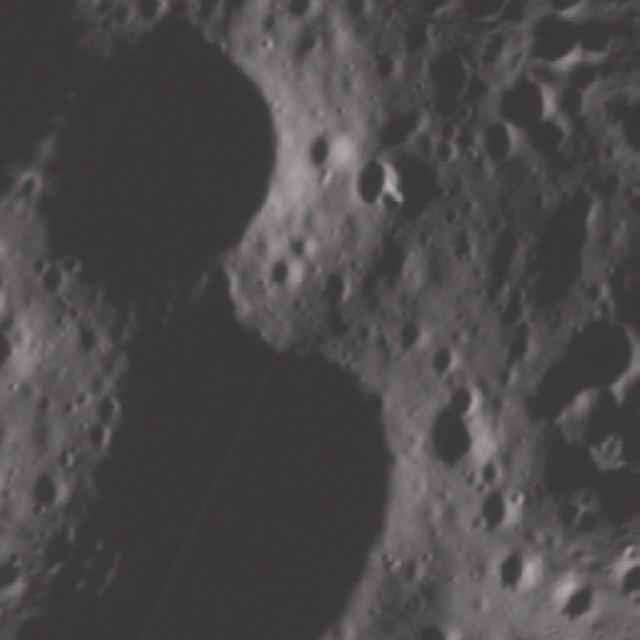crater: (0, 0, 449, 408), (32, 289, 446, 640), (397, 24, 500, 128), (414, 401, 508, 493), (466, 472, 543, 551), (0, 307, 52, 418), (337, 146, 412, 222), (292, 115, 368, 190), (485, 542, 557, 616), (374, 303, 438, 368), (468, 111, 530, 178), (521, 104, 582, 170), (254, 245, 314, 309), (20, 462, 80, 524), (418, 338, 473, 394), (314, 257, 368, 312), (546, 81, 600, 134), (278, 220, 330, 274), (193, 0, 282, 31), (75, 416, 118, 462), (547, 492, 587, 536), (621, 131, 640, 206), (461, 35, 492, 60), (637, 228, 640, 278)
